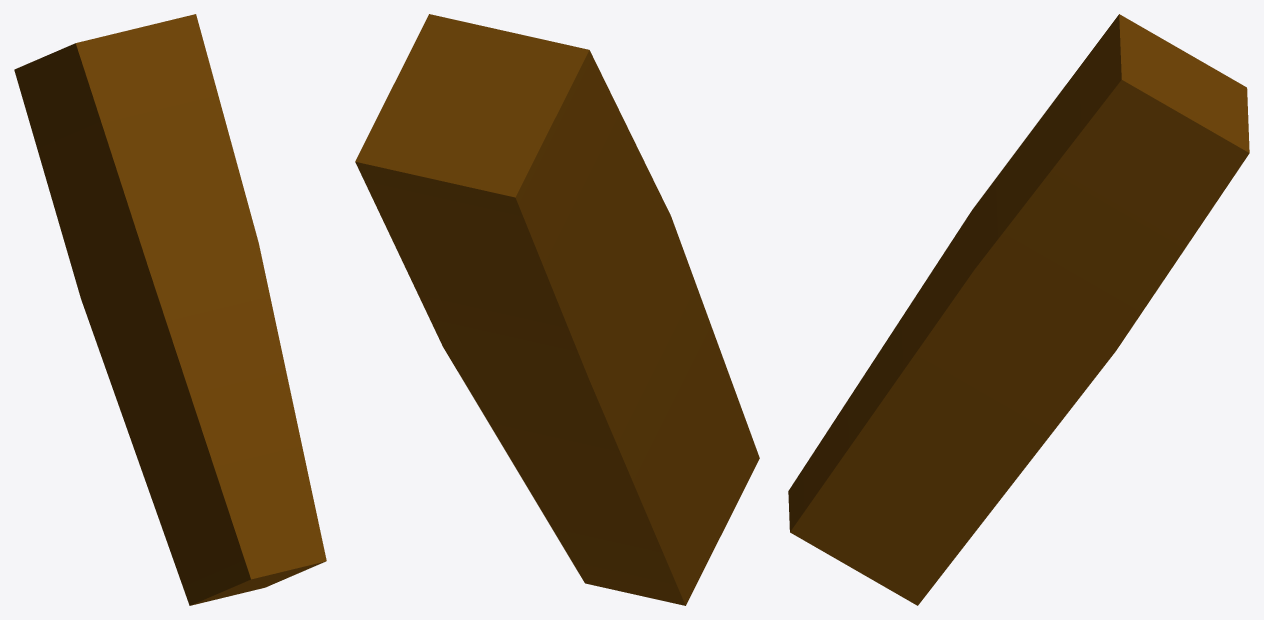
The picture shows the model from 3 angles, left to right: view 1: azimuth 30°, elevation 25°; view 2: azimuth 150°, elevation 25°; view 3: azimuth 270°, elevation 25°; orthographic projection. The views are drawn at different scales.
Parts seen in each view (by area): view 1: 右33; view 2: 右33; view 3: 右33.
Part boxes in pixels (left/top/right/bottom): 右33: left=14, top=14, right=326, bottom=605; 右33: left=355, top=14, right=759, bottom=605; 右33: left=788, top=14, right=1249, bottom=605.
Bounding box in the file's own units: 13.77 × 53.09 × 41.02.
